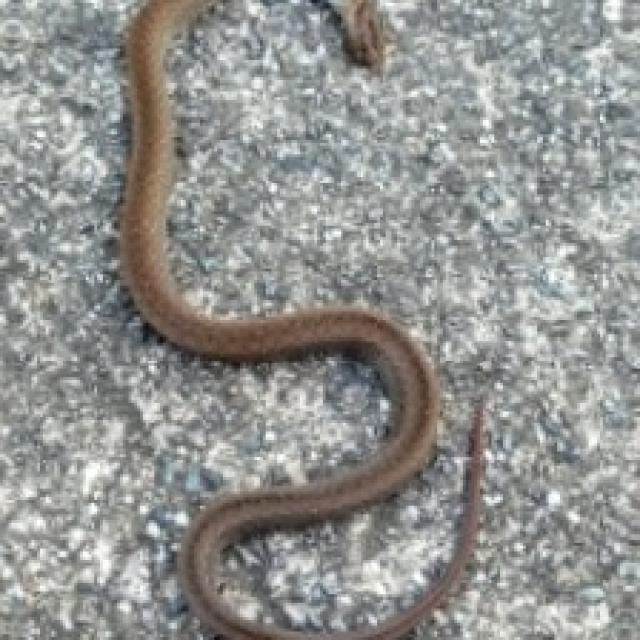reinhardts lined snake: (120, 0, 483, 637), (327, 0, 385, 68)
